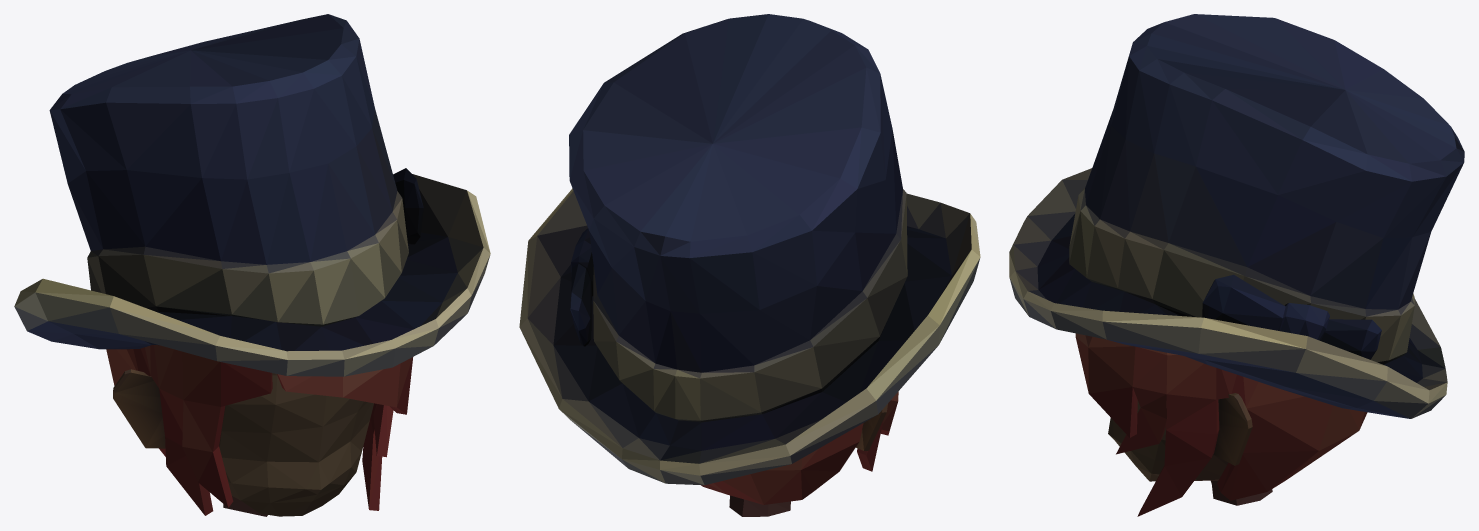
Rendered from helm_darkskin_ponytail_red_tophat.fbx.
3 views of the same model, side by side, from view 1: azimuth 30°, elevation 25°; view 2: azimuth 150°, elevation 25°; view 3: azimuth 270°, elevation 25° (orthographic). The views are drawn at different scales.
Visible parts, largest first — view 1: helm_darkskin_ponytail_red_tophat; view 2: helm_darkskin_ponytail_red_tophat; view 3: helm_darkskin_ponytail_red_tophat.
Part boxes in pixels (x1,y1,x2,y2): helm_darkskin_ponytail_red_tophat: (14,14,490,516); helm_darkskin_ponytail_red_tophat: (519,14,980,516); helm_darkskin_ponytail_red_tophat: (1009,14,1464,516).
Bounding box in the file's own units: 1.67 × 1.86 × 1.69.
